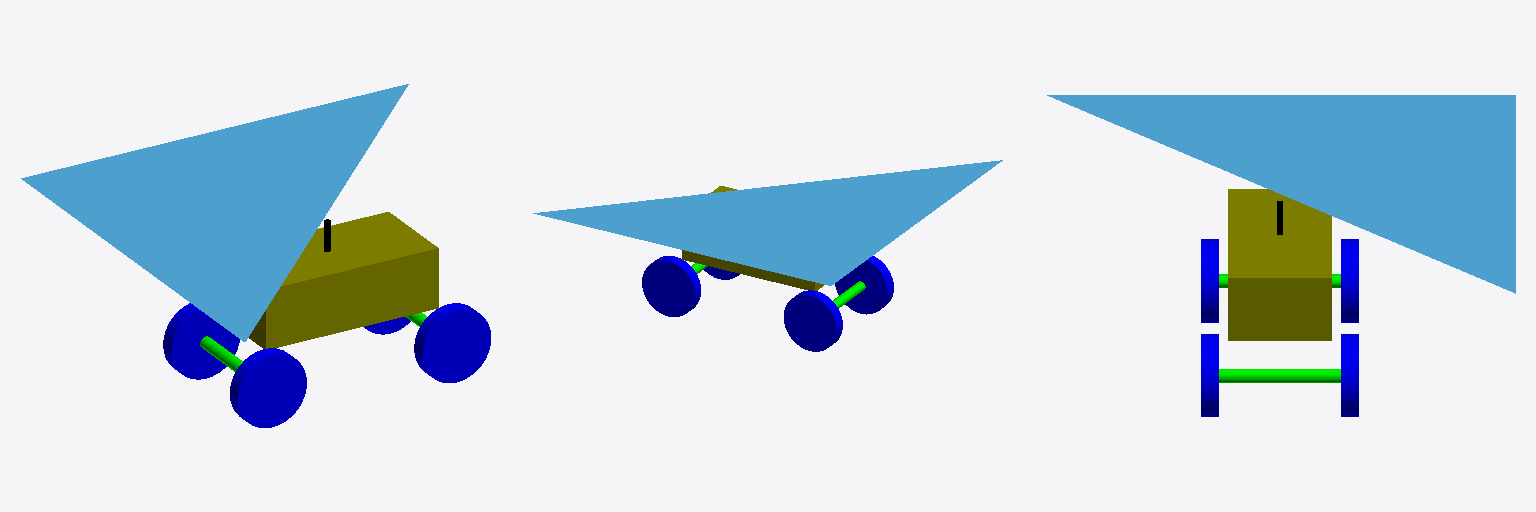
robot.urdf — car:
<?xml version="1.0" ?>
<!-- =================================================================================== -->
<!-- |    This document was autogenerated by xacro from /home/user/landing/drqv2_landing/g_vehicle/car_v7.urdf | -->
<!-- |    EDITING THIS FILE BY HAND IS NOT RECOMMENDED                                 | -->
<!-- =================================================================================== -->
<robot name="car" xmlns:xacro="http://www.ros.org/wiki/xacro">
  <!-- Parameters -->
  <!-- H font thickness (0.005) -->
  <!-- Caution! too small t value can make H invisible in PyBullet -->
  <!-- Base and circle color codes -->
  <!-- Color for PyBullet and RViz -->
  <material name="base_color">
    <color rgba="0.12 0.91 0.14 1.0"/>
  </material>
  <material name="circle_color">
    <color rgba="0.95 0.07 0.13 1.0"/>
  </material>
  <!-- End of parameters -->
  <material name="Red">
    <color rgba="1.0 0 0 1.0"/>
  </material>
  <material name="Green">
    <color rgba="0 1.0 0 1.0"/>
  </material>
  <material name="Blue">
    <color rgba="0 0 1.0 0.5"/>
  </material>
  <material name="Black">
    <color rgba="0 0 0 1.0"/>
  </material>
  <material name="Gray">
    <color rgba="0.55 0.55 0 1.0"/>
  </material>
  <!-- Dummy base link to lift the base up -->
  <link name="base_link">
    <inertial>
      <mass value="0.2"/>
      <origin xyz="0 0 0"/>
      <inertia ixx="0.02" ixy="0.0" ixz="0.0" iyy="0.02" iyz="0.0" izz="0.02"/>
    </inertial>
  </link>
  <!-- Main body -->
  <link name="main_body">
    <inertial>
      <mass value="0.2"/>
      <origin xyz="0 0 0"/>
      <inertia ixx="0.02" ixy="0.0" ixz="0.0" iyy="0.02" iyz="0.0" izz="0.02"/>
    </inertial>
    <visual>
      <origin rpy="0 0 0" xyz="0 0 0"/>
      <geometry>
        <box size="0.3 0.15 0.1"/>
      </geometry>
      <material name="Gray"/>
    </visual>
    <collision>
      <origin rpy="0 0 0" xyz="0 0 0"/>
      <geometry>
        <box size="0.3 0.15 0.1"/>
      </geometry>
    </collision>
  </link>
  <gazebo reference="main_body">
    <material>Gazebo/Red</material>
  </gazebo>
  <joint name="dummy" type="fixed">
    <parent link="base_link"/>
    <child link="main_body"/>
    <origin rpy="0 0 0" xyz="0 0 0.16"/>
  </joint>
  <!-- the rear wheel bar -->
  <link name="rear_bar_link">
    <visual>
      <origin xyz="0 0 0"/>
      <geometry>
        <cylinder length="0.175" radius="0.01"/>
      </geometry>
      <material name="Green"/>
    </visual>
    <inertial>
      <mass value="0.01"/>
      <origin xyz="0 0 0"/>
      <inertia ixx="0.01" ixy="0.0" ixz="0.0" iyy="0.01" iyz="0.0" izz="0.01"/>
    </inertial>
    <collision>
      <origin xyz="0 0 0"/>
      <geometry>
        <cylinder length="0.2" radius="0.01"/>
      </geometry>
    </collision>
  </link>
  <gazebo reference="rear_bar_link">
    <material>Gazebo/Green</material>
  </gazebo>
  <joint name="rear_bar_joint" type="continuous">
    <axis xyz="0 0 1"/>
    <parent link="main_body"/>
    <child link="rear_bar_link"/>
    <origin rpy="-1.5707963267948966 0 0" xyz="-0.16 0.0 -0.1"/>
  </joint>
  <!-- the back left wheel -->
  <link name="back_left_wheel_link">
    <inertial>
      <mass value="0.01"/>
      <origin xyz="0 0 0"/>
      <inertia ixx="0.1" ixy="0.0" ixz="0.0" iyy="0.1" iyz="0.0" izz="0.1"/>
    </inertial>
    <visual>
      <origin rpy="1.5707963267948966 0 0" xyz="0 0 0"/>
      <geometry>
        <cylinder length="0.025" radius="0.06"/>
      </geometry>
      <material name="Blue"/>
    </visual>
    <collision>
      <origin rpy="1.5707963267948966 0 0" xyz="0 0 0"/>
      <geometry>
        <cylinder length="0.025" radius="0.06"/>
      </geometry>
    </collision>
  </link>
  <gazebo reference="back_left_wheel_link">
    <material>Gazebo/Black</material>
  </gazebo>
  <joint name="back_left_wheel_joint" type="fixed">
    <axis xyz="0 1 0"/>
    <parent link="rear_bar_link"/>
    <child link="back_left_wheel_link"/>
    <origin rpy="1.5707963267948966 0 0" xyz="0.0 0.0 0.1"/>
  </joint>
  <!-- the back right wheel -->
  <link name="back_right_wheel_link">
    <inertial>
      <mass value="0.01"/>
      <origin xyz="0 0 0"/>
      <inertia ixx="0.1" ixy="0.0" ixz="0.0" iyy="0.1" iyz="0.0" izz="0.1"/>
    </inertial>
    <visual>
      <origin rpy="1.5707963267948966 0 0" xyz="0 0 0"/>
      <geometry>
        <cylinder length="0.025" radius="0.06"/>
      </geometry>
      <material name="Blue"/>
    </visual>
    <collision>
      <origin rpy="1.5707963267948966 0 0" xyz="0 0 0"/>
      <geometry>
        <cylinder length="0.025" radius="0.06"/>
      </geometry>
    </collision>
  </link>
  <gazebo reference="back_right_wheel_link">
    <material>Gazebo/Black</material>
  </gazebo>
  <joint name="back_right_wheel_joint" type="fixed">
    <axis xyz="0 1 0"/>
    <parent link="rear_bar_link"/>
    <child link="back_right_wheel_link"/>
    <origin rpy="1.5707963267948966 0 0" xyz="0.0 0.0 -0.1"/>
  </joint>
  <!-- The below code is for connected front wheels -->
  <!-- the front wheel bar -->
  <link name="bar_link">
    <visual>
      <origin xyz="0 0 0"/>
      <geometry>
        <cylinder length="0.175" radius="0.01"/>
      </geometry>
      <material name="Green"/>
    </visual>
    <inertial>
      <mass value="0.01"/>
      <origin xyz="0 0 0"/>
      <inertia ixx="0.01" ixy="0.0" ixz="0.0" iyy="0.01" iyz="0.0" izz="0.01"/>
    </inertial>
    <collision>
      <origin xyz="0 0 0"/>
      <geometry>
        <cylinder length="0.2" radius="0.01"/>
      </geometry>
    </collision>
  </link>
  <gazebo reference="bar_link">
    <material>Gazebo/Green</material>
  </gazebo>
  <joint name="bar_joint" type="continuous">
    <axis xyz="0 0 1"/>
    <parent link="main_body"/>
    <child link="bar_link"/>
    <origin rpy="-1.5707963267948966 0 0" xyz="0.16 0.0 -0.1"/>
  </joint>
  <!-- the front left wheel -->
  <link name="front_left_wheel_link">
    <inertial>
      <mass value="0.01"/>
      <origin xyz="0 0 0"/>
      <inertia ixx="0.1" ixy="0.0" ixz="0.0" iyy="0.1" iyz="0.0" izz="0.1"/>
    </inertial>
    <visual>
      <origin rpy="1.5707963267948966 0 0" xyz="0 0 0"/>
      <geometry>
        <cylinder length="0.025" radius="0.06"/>
      </geometry>
      <material name="Blue"/>
    </visual>
    <collision>
      <origin rpy="1.5707963267948966 0 0" xyz="0 0 0"/>
      <geometry>
        <cylinder length="0.025" radius="0.06"/>
      </geometry>
    </collision>
  </link>
  <gazebo reference="front_left_wheel_link">
    <material>Gazebo/Green</material>
  </gazebo>
  <joint name="front_left_wheel_joint" type="fixed">
    <parent link="bar_link"/>
    <child link="front_left_wheel_link"/>
    <origin rpy="1.5707963267948966 0 0" xyz="0.0 0.0 -0.1"/>
  </joint>
  <!-- the front right wheel -->
  <link name="front_right_wheel_link">
    <inertial>
      <mass value="0.01"/>
      <origin xyz="0 0 0"/>
      <inertia ixx="0.1" ixy="0.0" ixz="0.0" iyy="0.1" iyz="0.0" izz="0.1"/>
    </inertial>
    <visual>
      <origin rpy="1.5707963267948966 0 0" xyz="0 0 0"/>
      <geometry>
        <cylinder length="0.025" radius="0.06"/>
      </geometry>
      <material name="Blue"/>
    </visual>
    <collision>
      <origin rpy="1.5707963267948966 0 0" xyz="0 0 0"/>
      <geometry>
        <cylinder length="0.025" radius="0.06"/>
      </geometry>
    </collision>
  </link>
  <gazebo reference="front_right_wheel_link">
    <material>Gazebo/Green</material>
    <turnGravityOff>false</turnGravityOff>
  </gazebo>
  <joint name="front_right_wheel_joint" type="fixed">
    <parent link="bar_link"/>
    <child link="front_right_wheel_link"/>
    <origin rpy="1.5707963267948966 0 0" xyz="0.0 0.0 0.1"/>
  </joint>
  <!-- the heliport holder -->
  <link name="holder">
    <visual>
      <origin rpy="0 0 0" xyz="0 0 0"/>
      <geometry>
        <cylinder length="0.05" radius="0.005"/>
      </geometry>
      <material name="Black"/>
    </visual>
    <inertial>
      <mass value="0.01"/>
      <origin xyz="0 0 0"/>
      <inertia ixx="0.05" ixy="0.0" ixz="0.0" iyy="0.05" iyz="0.0" izz="0.05"/>
    </inertial>
    <collision>
      <origin rpy="0 0 0" xyz="0 0 0"/>
      <geometry>
        <cylinder length="0.05" radius="0.005"/>
      </geometry>
    </collision>
  </link>
  <gazebo reference="holder">
    <material>Gazebo/Black</material>
  </gazebo>
  <joint name="base_to_holder" type="fixed">
    <parent link="main_body"/>
    <child link="holder"/>
    <origin rpy="0 0 0" xyz="0 0 0.075"/>
  </joint>
  <!-- The heliport base (scale 0.45 to 0.45 is cf size)-->
  <link name="heliport_base">
    <visual>
      <origin rpy="0 0 0" xyz="0 0 0"/>
      <geometry>
        <mesh filename="base1.obj" scale="3.375 3.375 1"/>
      </geometry>
      <!-- <material name="base_color"/> -->
    </visual>
    <inertial>
      <mass value="0.05"/>
      <origin xyz="0 0 0"/>
      <inertia ixx="0.009" ixy="0.0" ixz="0.0" iyy="0.009" iyz="0.0" izz="0.009"/>
    </inertial>
    <collision>
      <origin rpy="0 0 0" xyz="0 0 0"/>
      <geometry>
        <mesh filename="base1.obj" scale="2.5 2.5 1"/>
      </geometry>
    </collision>
  </link>
  <gazebo reference="heliport_base">
    <visual>
      <material>
        <ambient>0 0 1 1.0</ambient>
        <diffuse>0 0.5 0 1.0</diffuse>
        <specular>0 0 0 1.0</specular>
        <emissive>0.0 0.0 0.0 0.0</emissive>
      </material>
    </visual>
  </gazebo>
  <joint name="holder_to_heliport" type="fixed">
    <parent link="holder"/>
    <child link="heliport_base"/>
    <origin rpy="0 0 0" xyz="0 0 0.037500000000000006"/>
  </joint>
  <gazebo>
    <plugin filename="libgazebo_ros_planar_move.so" name="object_controller">
      <commandTopic>cmd_vel</commandTopic>
      <odometryTopic>odom</odometryTopic>
      <odometryFrame>odom</odometryFrame>
      <odometryRate>20.0</odometryRate>
      <robotBaseFrame>bar_link</robotBaseFrame>
    </plugin>
  </gazebo>
</robot>

--- What the picture shows (computed from the rendered views, not written in the file) ---
3 views of the same robot in one strip: view 1: azimuth 30°, elevation 25°; view 2: azimuth 150°, elevation 25°; view 3: azimuth 270°, elevation 25° (orthographic).
Model car with 10 links and 9 joints (2 continuous, 7 fixed), rooted at base_link, posed all joints at 0.
Visible links, largest first — view 1: heliport_base, main_body, back_right_wheel_link, front_left_wheel_link, back_left_wheel_link, rear_bar_link; view 2: heliport_base, back_left_wheel_link, front_right_wheel_link, back_right_wheel_link, main_body; view 3: heliport_base, main_body, bar_link, back_left_wheel_link, back_right_wheel_link, front_left_wheel_link, front_right_wheel_link.
Boxes of the visible links, left/top/right/bottom form: heliport_base: left=21, top=84, right=408, bottom=341; main_body: left=249, top=212, right=438, bottom=348; back_right_wheel_link: left=230, top=348, right=306, bottom=427; front_left_wheel_link: left=414, top=303, right=490, bottom=382; back_left_wheel_link: left=163, top=303, right=239, bottom=379; rear_bar_link: left=200, top=336, right=242, bottom=371; heliport_base: left=533, top=160, right=1002, bottom=285; back_left_wheel_link: left=784, top=290, right=842, bottom=351; front_right_wheel_link: left=642, top=256, right=700, bottom=316; back_right_wheel_link: left=835, top=256, right=893, bottom=314; main_body: left=682, top=186, right=823, bottom=290; heliport_base: left=1047, top=95, right=1515, bottom=293; main_body: left=1228, top=189, right=1331, bottom=340; bar_link: left=1219, top=369, right=1340, bottom=382; back_left_wheel_link: left=1341, top=239, right=1358, bottom=322; back_right_wheel_link: left=1201, top=239, right=1218, bottom=322; front_left_wheel_link: left=1201, top=334, right=1218, bottom=416; front_right_wheel_link: left=1341, top=334, right=1358, bottom=416.
Bounding box of the posed robot: 0.675 × 0.675 × 0.2725 m (x, y, z).
1 mesh visuals loaded from 1 distinct referenced files (1 OBJ).
